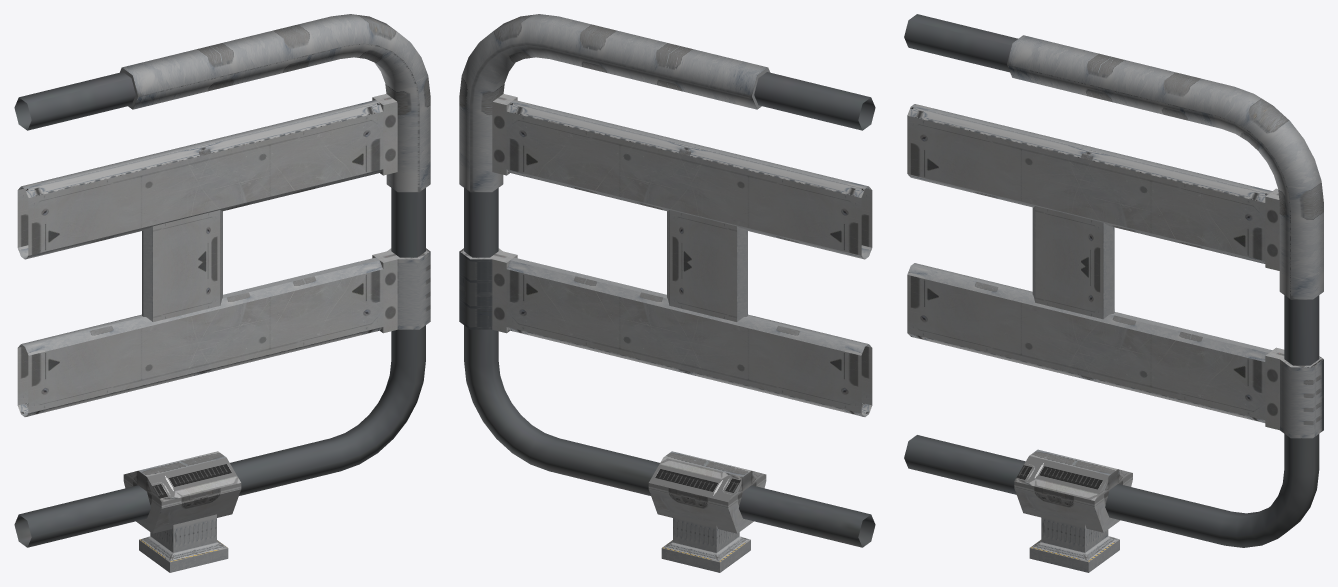
File: SM_Rail3.fbx
3 views of the same model, side by side, from view 1: azimuth 30°, elevation 25°; view 2: azimuth 150°, elevation 25°; view 3: azimuth 330°, elevation 25° (orthographic).
Visible parts, largest first — view 1: SM_Rail3_LOD0; view 2: SM_Rail3_LOD0; view 3: SM_Rail3_LOD0.
Boxes of the visible parts, left/top/right/bottom form: SM_Rail3_LOD0: left=14, top=14, right=430, bottom=572; SM_Rail3_LOD0: left=459, top=14, right=875, bottom=572; SM_Rail3_LOD0: left=904, top=14, right=1323, bottom=572.
Size of the model in its own units: 101 by 16.5 by 119.
Materials: 2 (2 with a texture image).
